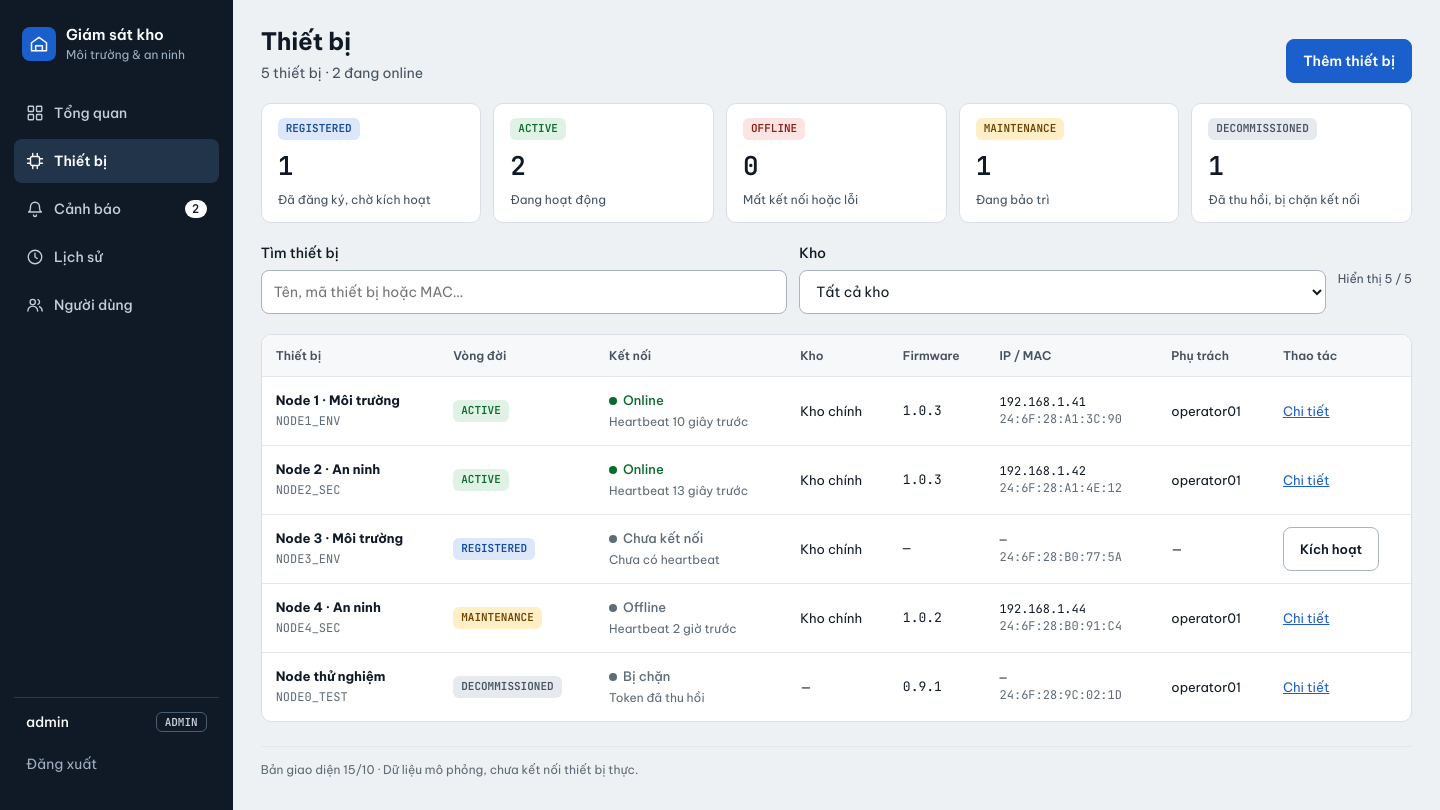
Test: AC-3 and AC-6: login and honest prototype interactions › shows an empty state when device search has no matches
The image size is (1440, 810).
Type "missing-device" into the search field labelled "Tìm thiết bị" at (524, 292), box [261,270,787,314]
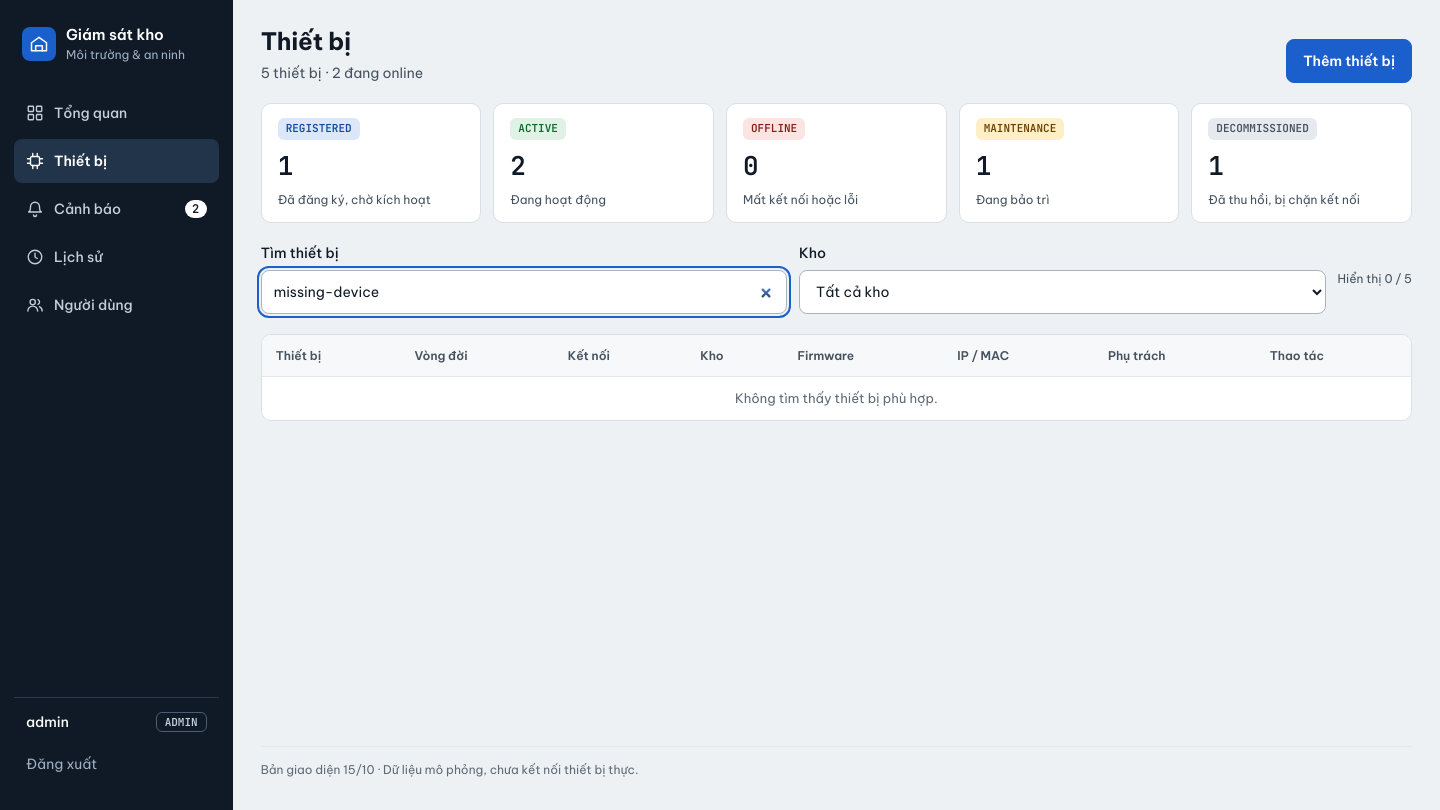
Now the text "Không tìm thấy thiết bị phù hợp." is shown, box [262,377,1411,420]
